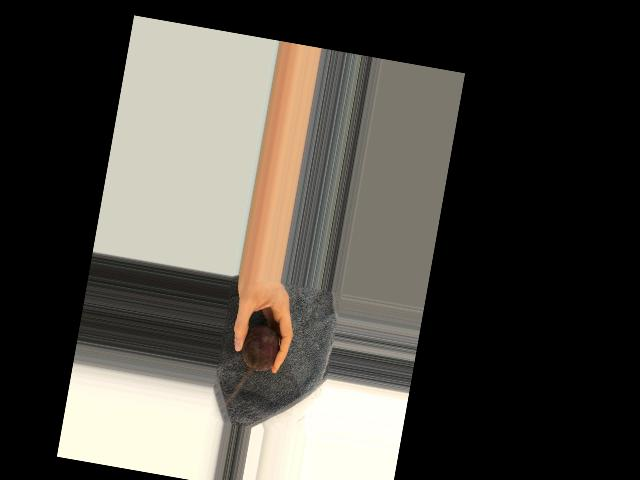beet: (238, 322, 282, 373)
